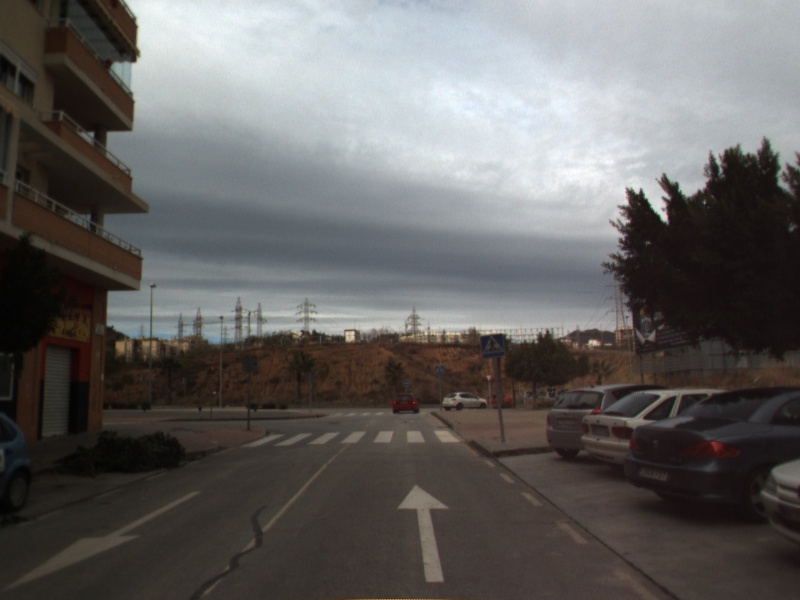STRAIGHT: (395, 482, 452, 584)
